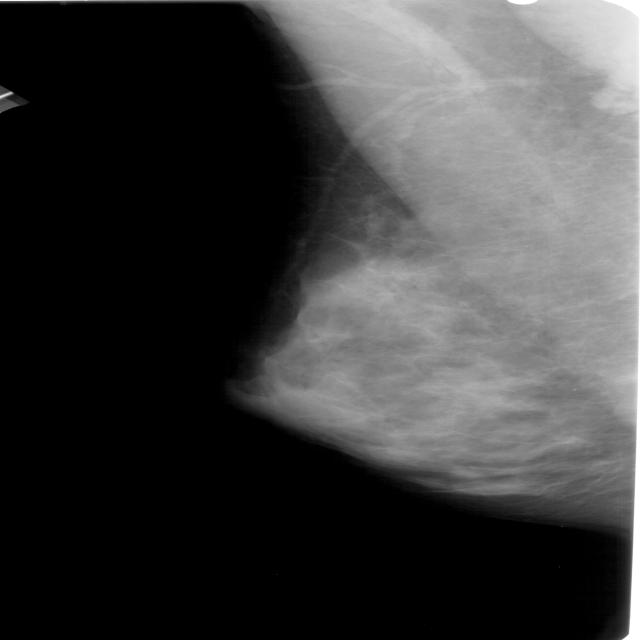cancer: (263, 235, 492, 461)
